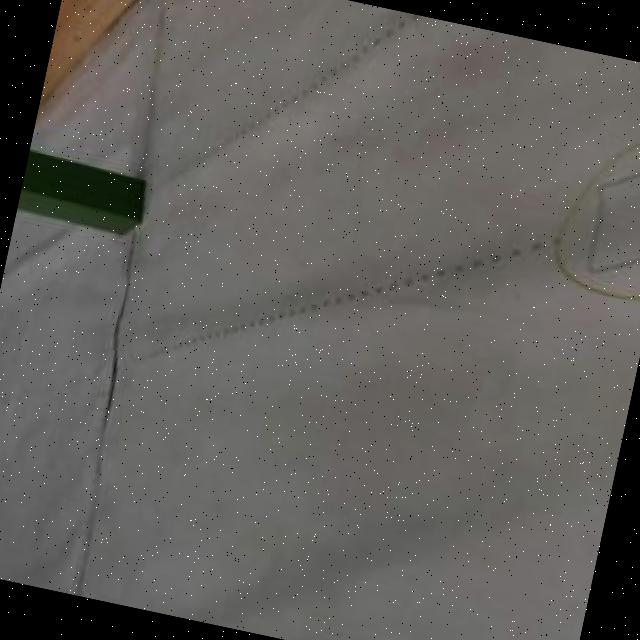greenbox: (16, 148, 155, 238)
